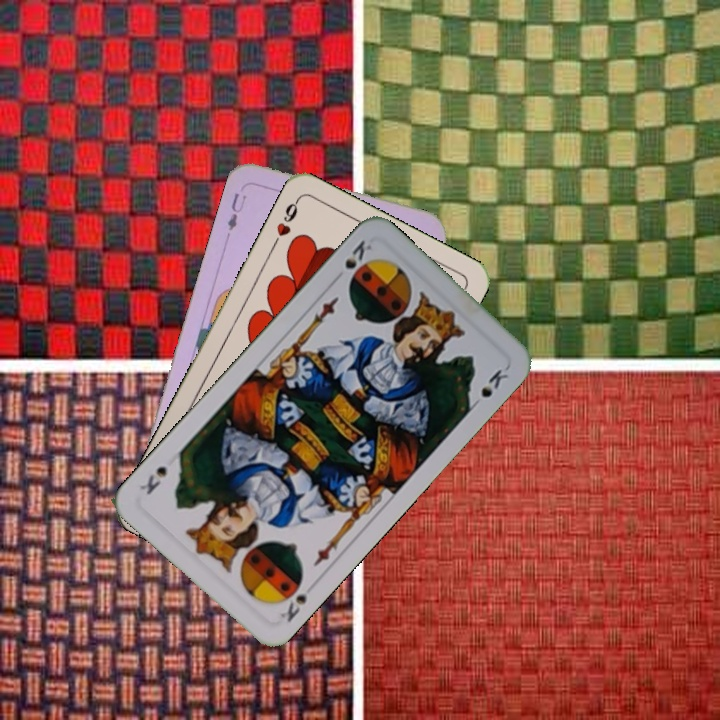EU: (222, 189, 249, 234)
H9: (268, 195, 302, 250)
SK: (340, 235, 375, 284), (276, 589, 310, 625)
